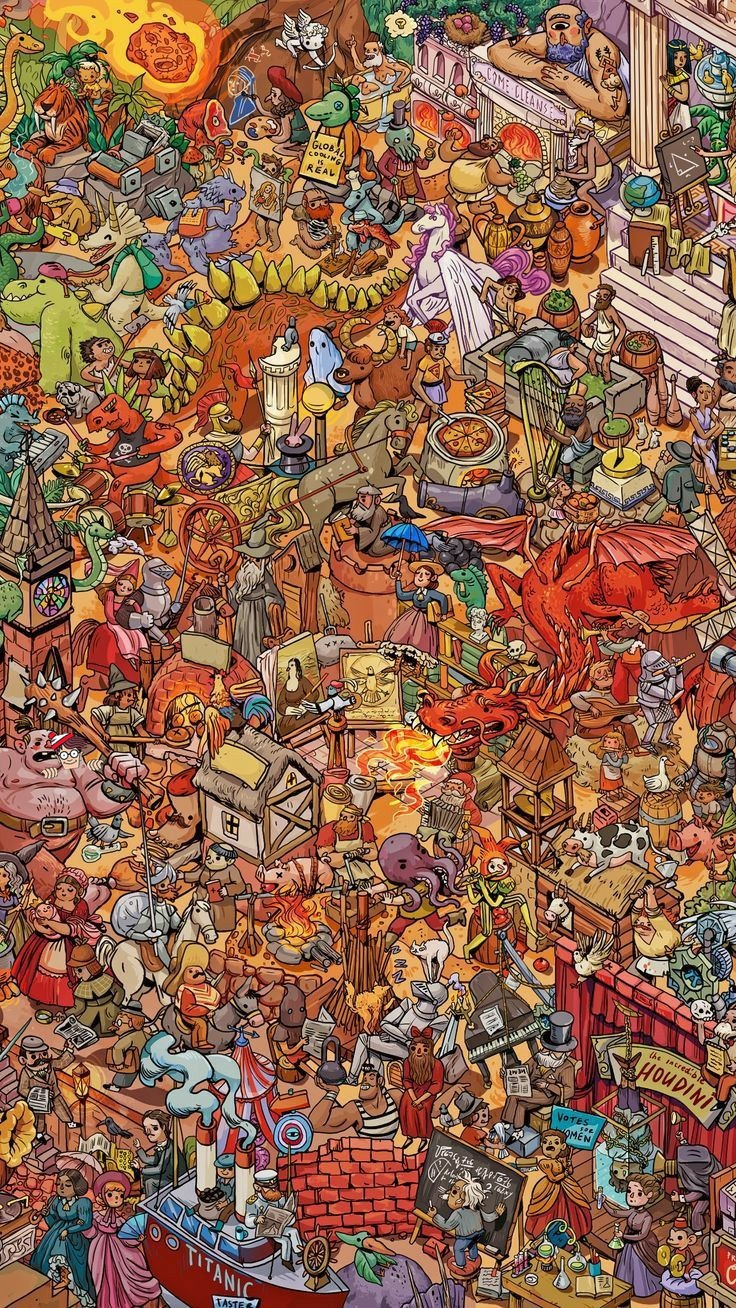waldo: (40, 732, 104, 779)
